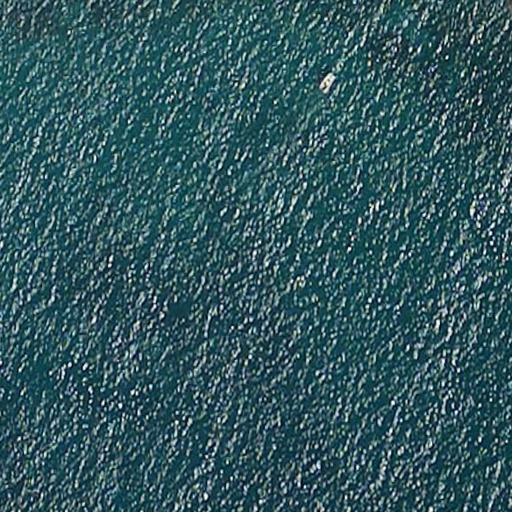ship: (318, 71, 336, 94)
